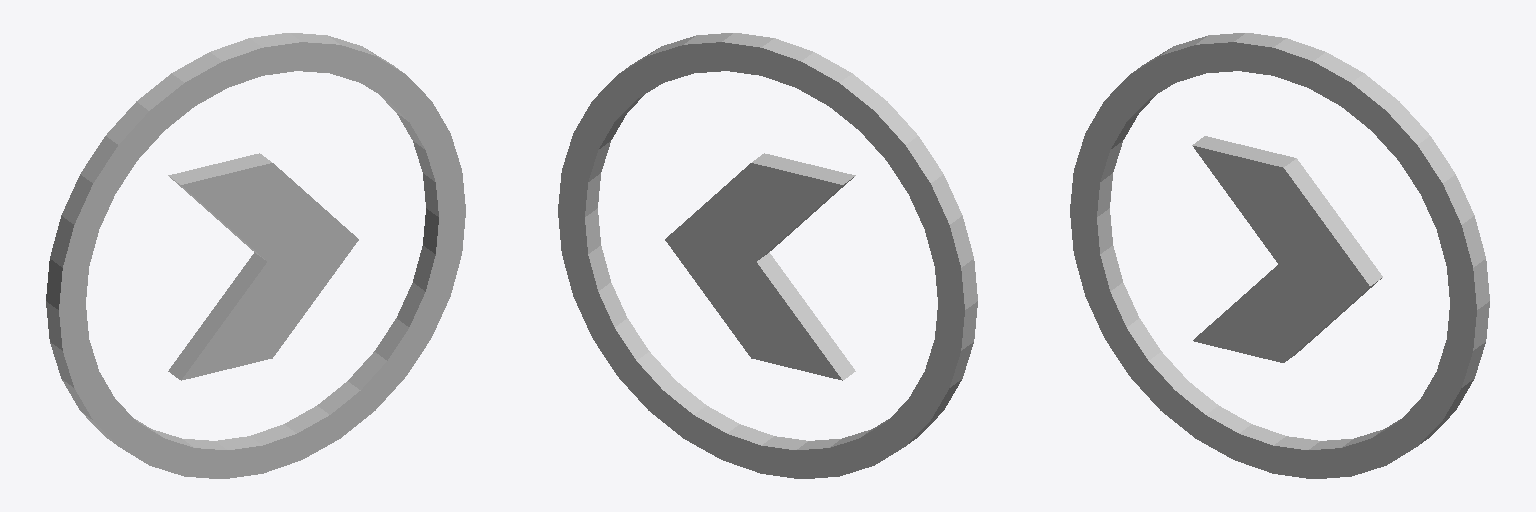
Rendered from Arrow_8.obj.
3 renders of one model, left to right at view 1: azimuth 30°, elevation 25°; view 2: azimuth 150°, elevation 25°; view 3: azimuth 330°, elevation 25°, orthographic.
Parts seen in each view (by area): view 1: Arrow_8; view 2: Arrow_8; view 3: Arrow_8.
Part boxes in pixels (x1,y1,x2,y2): Arrow_8: (46, 33, 465, 478); Arrow_8: (558, 33, 977, 478); Arrow_8: (1070, 33, 1489, 478).
Bounding box in the file's own units: 3.79 × 3.79 × 0.2101.